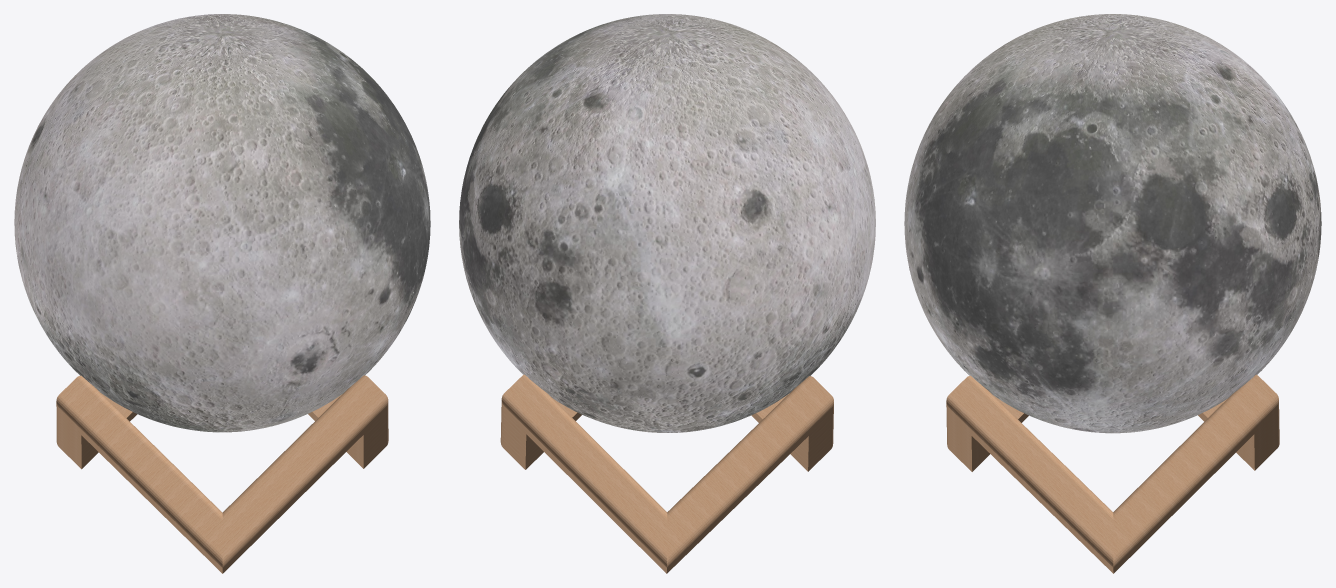
Rendered from moon_lamp.glb.
The picture shows the model from 3 angles, left to right: view 1: azimuth 30°, elevation 25°; view 2: azimuth 150°, elevation 25°; view 3: azimuth 270°, elevation 25°; orthographic projection.
Visible parts, largest first — view 1: Moon_1, Cube_0; view 2: Moon_1, Cube_0; view 3: Moon_1, Cube_0.
Boxes of the visible parts, x1,y1,x2,y2 form: Moon_1: (14, 14, 430, 432); Cube_0: (56, 375, 388, 573); Moon_1: (459, 14, 875, 432); Cube_0: (500, 374, 833, 573); Moon_1: (904, 14, 1321, 433); Cube_0: (946, 374, 1279, 573).
Bounding box in the file's own units: 20.87 × 26.16 × 20.87.
Materials: 2 (2 with a texture image).
